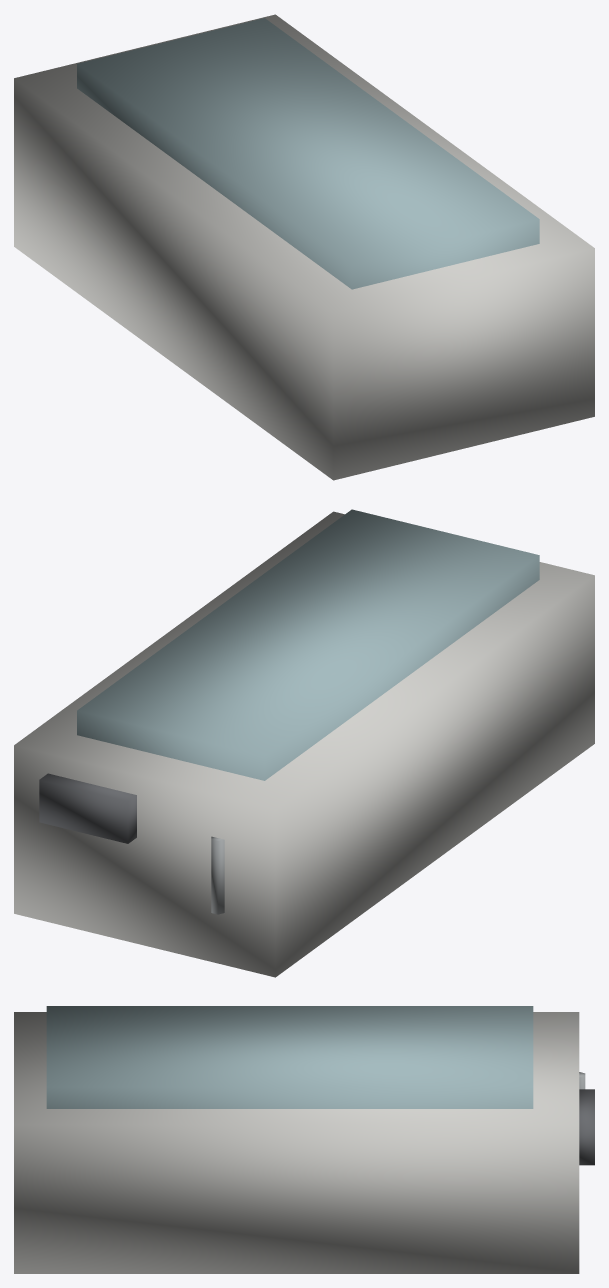
Rendered from bathtub__service.glb.
3 views of the same model, one above another, from view 1: azimuth 30°, elevation 25°; view 2: azimuth 150°, elevation 25°; view 3: azimuth 270°, elevation 25° (orthographic). The views are drawn at different scales.
Parts seen in each view (by area): view 1: world; view 2: world; view 3: world.
Boxes of the visible parts, bbox=[...] form: world: bbox=[14, 14, 594, 480]; world: bbox=[14, 509, 594, 977]; world: bbox=[14, 1006, 594, 1273].
Size of the model in its own units: 0.78 by 0.55 by 1.7.
